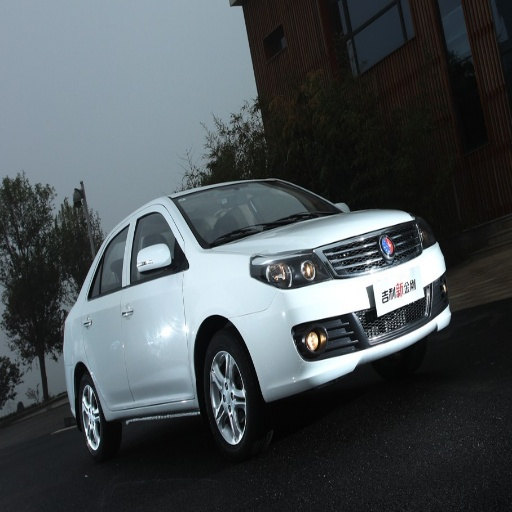front_bumper: (244, 227, 446, 396)
front_right_door: (117, 204, 184, 399)
front_right_light: (250, 252, 320, 288)
